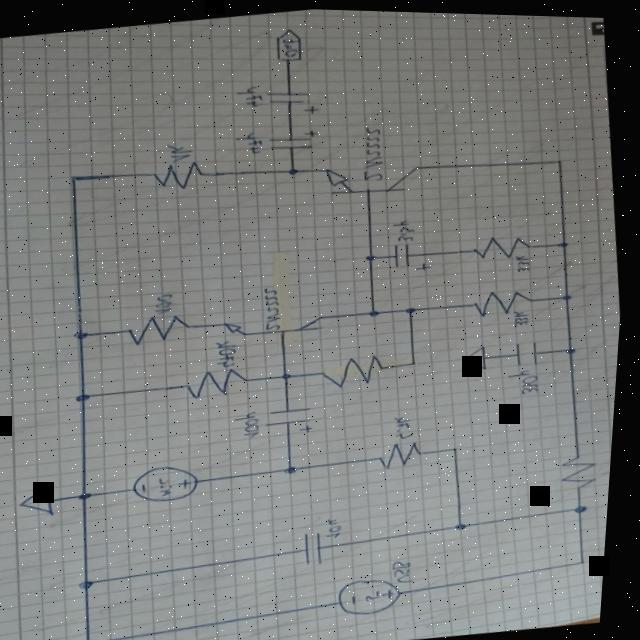capacitor: (266, 84, 323, 118), (391, 235, 439, 274), (266, 402, 322, 435), (268, 124, 323, 152), (305, 527, 337, 564), (516, 335, 548, 364)
ground: (21, 481, 66, 519), (467, 340, 496, 369)
junction: (85, 576, 104, 589), (79, 390, 99, 402), (77, 328, 96, 340), (578, 499, 597, 510), (290, 461, 307, 473), (84, 489, 102, 500), (460, 517, 477, 528), (367, 249, 383, 260), (564, 287, 580, 298), (284, 369, 301, 379), (407, 302, 424, 312), (568, 342, 584, 352), (69, 172, 85, 182), (371, 305, 386, 315), (561, 235, 575, 245), (289, 164, 303, 173), (555, 154, 569, 161), (455, 442, 468, 449), (584, 555, 596, 562), (413, 357, 424, 364), (91, 639, 105, 640)
resistor: (323, 346, 397, 389), (126, 309, 201, 346), (187, 362, 258, 400), (473, 281, 542, 315), (560, 447, 610, 489), (152, 157, 213, 191), (475, 227, 540, 258), (383, 436, 434, 467)
source: (342, 571, 415, 616)
terminal: (272, 24, 307, 61)
text: (359, 121, 393, 184), (264, 282, 291, 329), (510, 363, 546, 393), (238, 407, 270, 438), (237, 127, 270, 154), (218, 337, 245, 369), (235, 82, 268, 108), (167, 139, 198, 163), (393, 214, 421, 240), (398, 554, 424, 581), (397, 410, 421, 437), (156, 291, 181, 315), (330, 513, 353, 537), (516, 248, 538, 270), (162, 473, 183, 495), (515, 304, 536, 324), (282, 34, 301, 56), (372, 586, 391, 600)
transistor: (326, 152, 435, 199), (225, 305, 331, 340)
